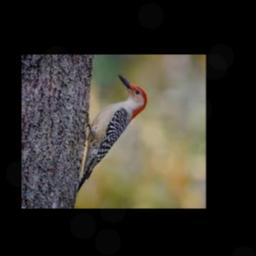Woodpecker: (76, 74, 147, 193)
